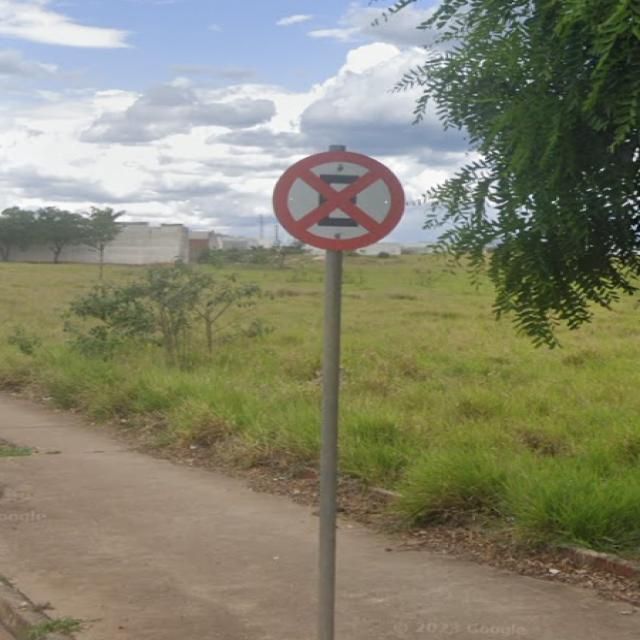no parking: (258, 141, 418, 260)
